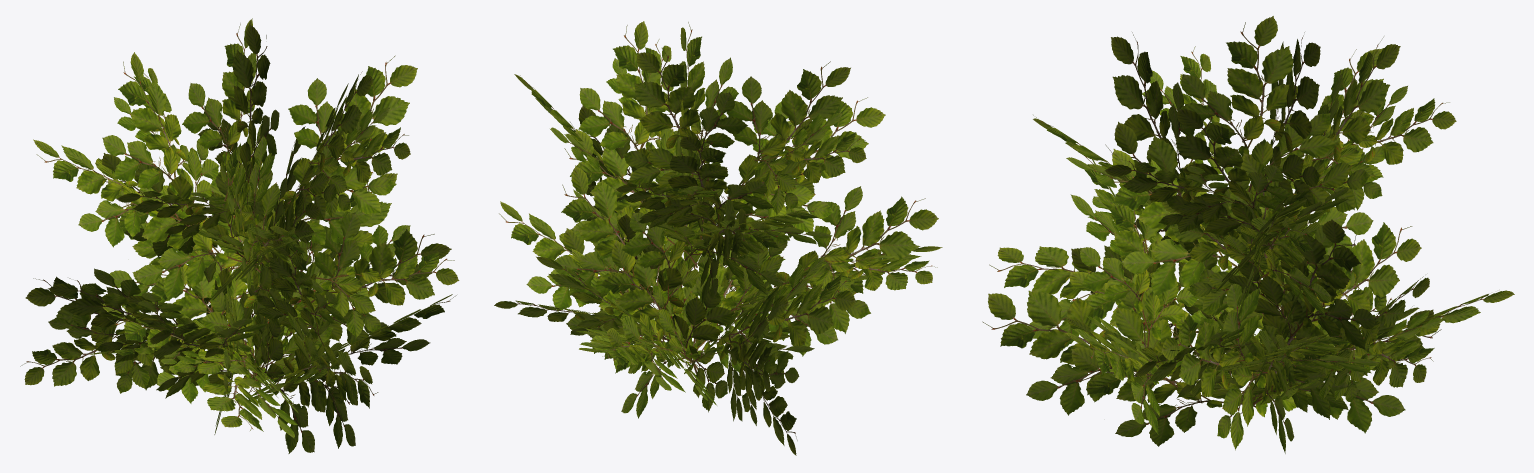
The model's file is bush_02.fbx.
The picture shows the model from 3 angles, left to right: view 1: azimuth 30°, elevation 25°; view 2: azimuth 150°, elevation 25°; view 3: azimuth 270°, elevation 25°; orthographic projection. The views are drawn at different scales.
Parts seen in each view (by area): view 1: Polygon_11; view 2: Polygon_11; view 3: Polygon_11.
Part boxes in pixels (x1,y1,x2,y2): Polygon_11: [20, 18, 459, 453]; Polygon_11: [494, 21, 942, 455]; Polygon_11: [982, 16, 1514, 453].
Size of the model in its own units: 223 by 221 by 245.
1 material, 1 textured.
